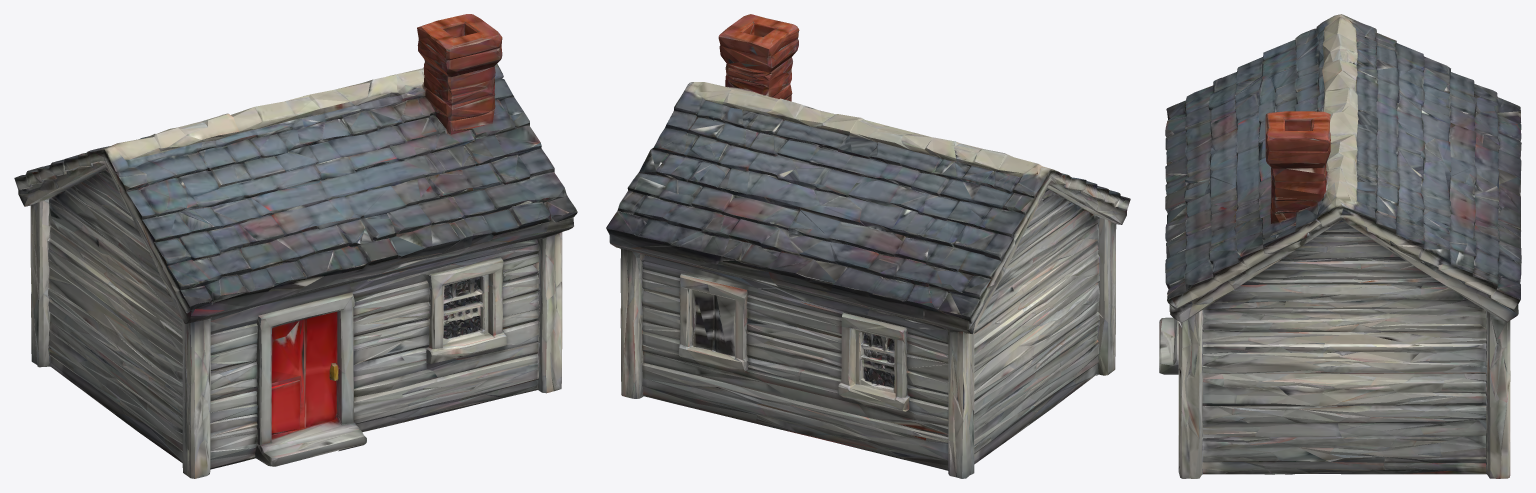
File: town_cottage_old_small_a.glb
3 renders of one model, left to right at view 1: azimuth 30°, elevation 25°; view 2: azimuth 150°, elevation 25°; view 3: azimuth 270°, elevation 25°, orthographic. The views are drawn at different scales.
Parts seen in each view (by area): view 1: normalize; view 2: normalize; view 3: normalize.
Part boxes in pixels (<box>): normalize: <box>14,14,577,478</box>; normalize: <box>606,14,1130,478</box>; normalize: <box>1159,14,1521,478</box>.
Bounding box in the file's own units: 1 × 0.8013 × 0.7919.
1 material, 1 textured.
